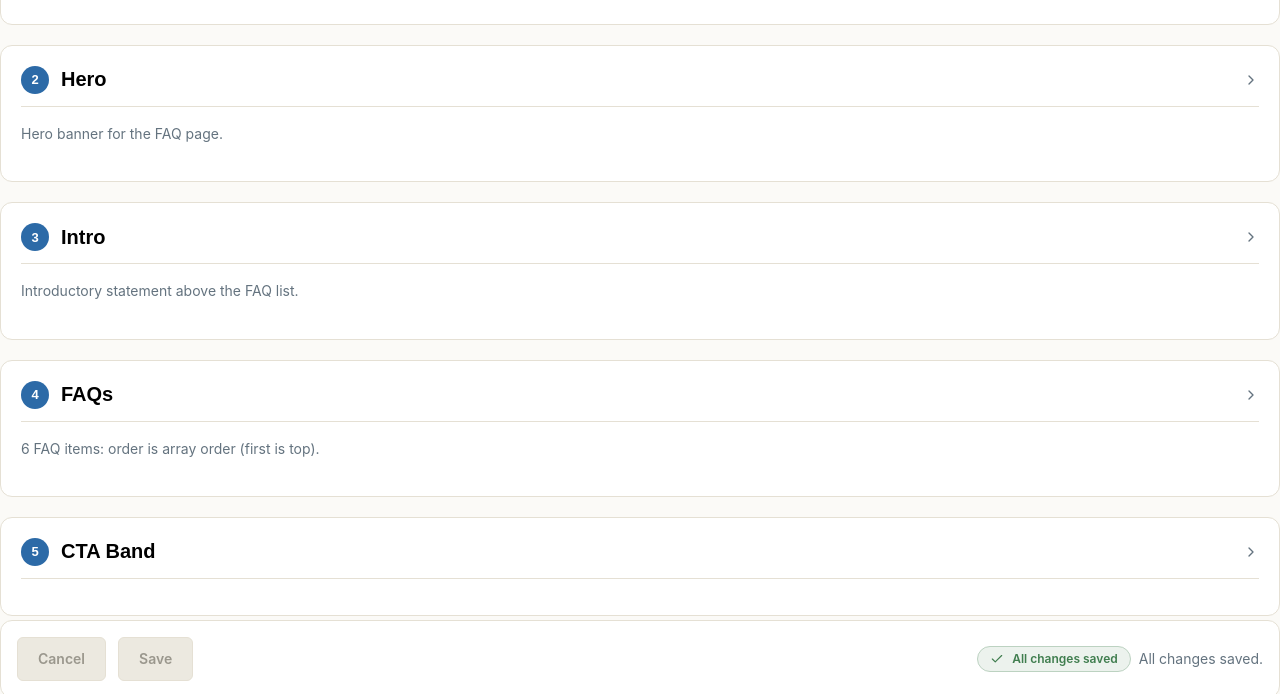
CmsFaqsPage — Phase 4 FAQ CMS › ordering: Move up/down reorders items
(page scrolled)
Step 1. Click the button "4 FAQs" → [87, 394], box [21,380,1259,422]
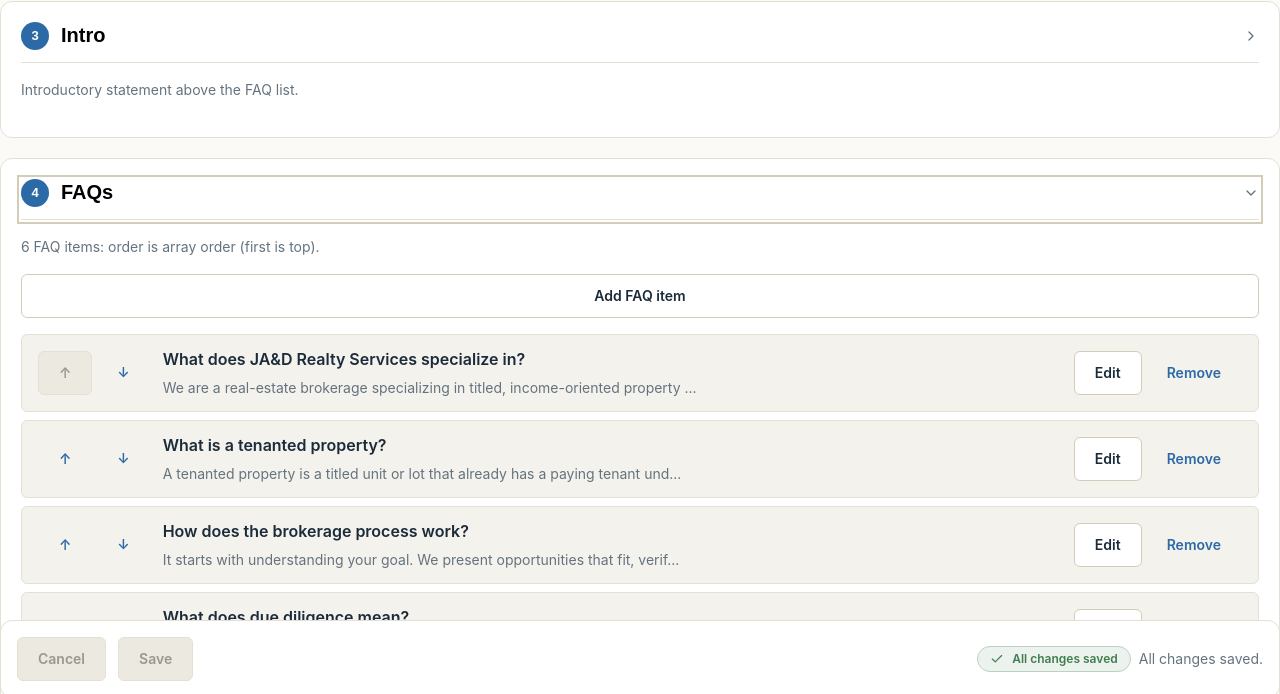
Check: the text "What does JA&D Realty Services specialize in?" is shown, box [163,349,525,369]
Check: the text "What is a tenanted property?" is shown, box [163,435,386,455]
Note: Click the move down button on the first item (index 0)
Step 2. Click the 1st button "↓" → [123, 373], box [96,351,151,395]
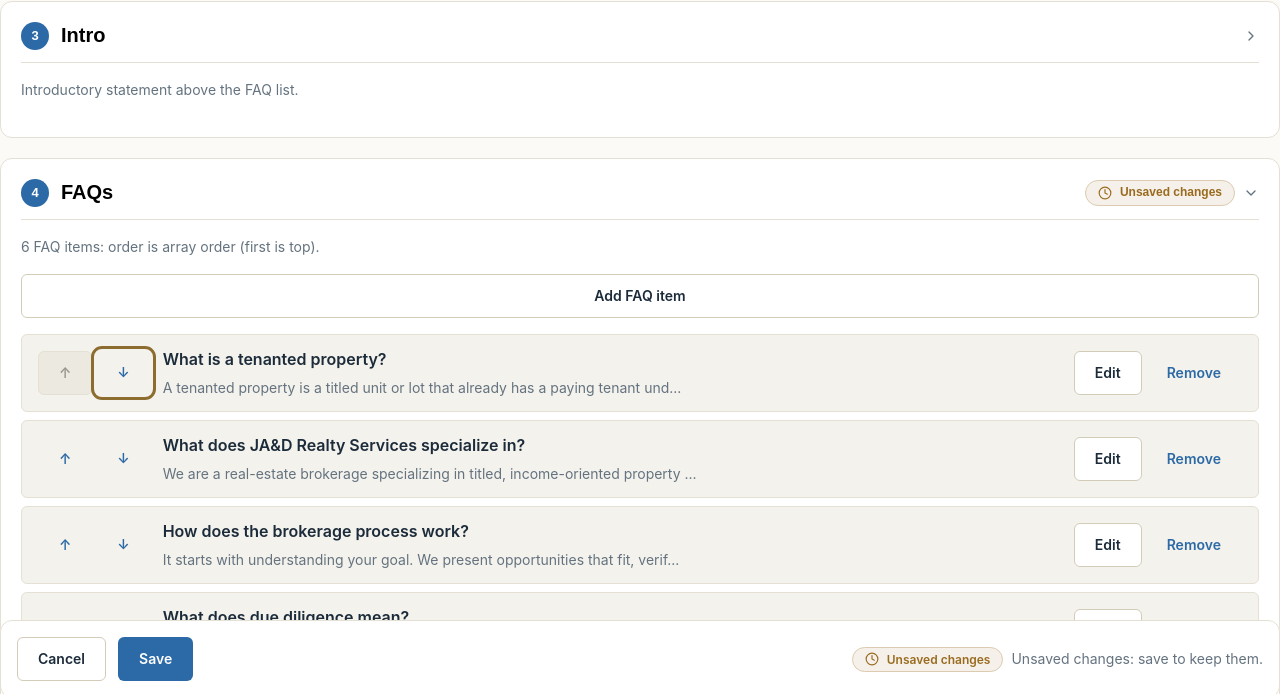
Check: the text "What is a tenanted property?" is shown, box [163,349,386,369]
Note: Move it back up
Step 3. Click the 2nd button "↑" → [65, 459], box [38,437,92,481]
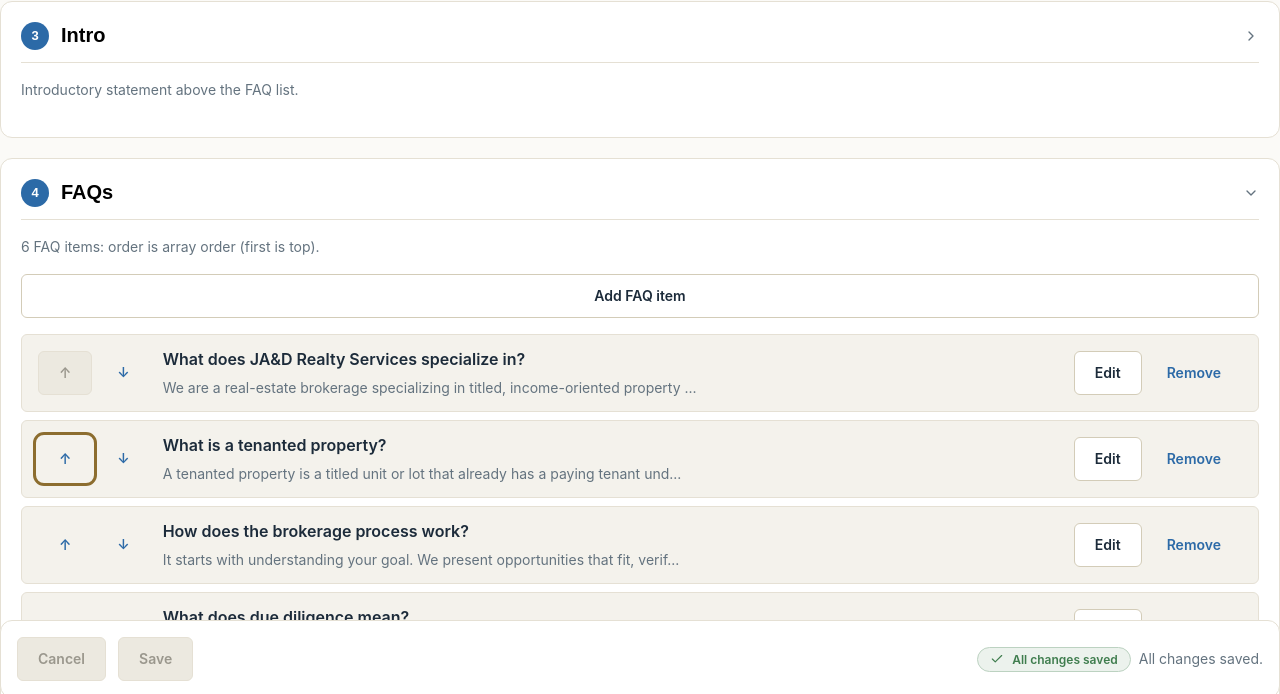
Check: the text "What does JA&D Realty Services specialize in?" is shown, box [163,349,525,369]
